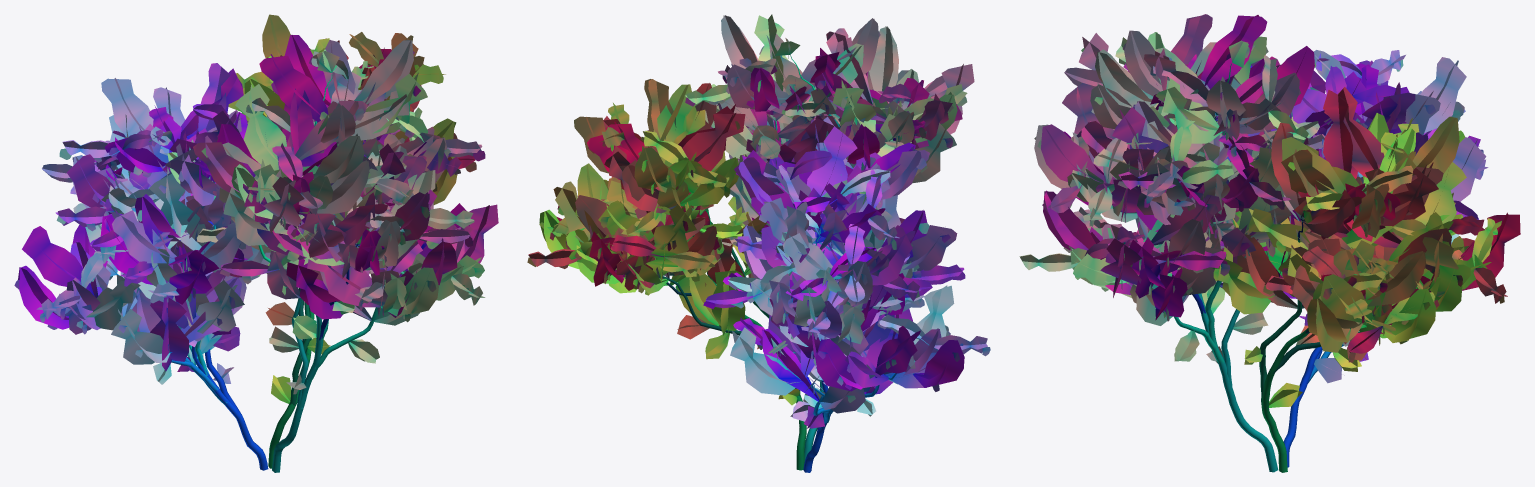
Rendered from European_Spindle_wk1ncbxja_Mid_wk1ncbxja_VarC_LOD2.fbx.
3 views of the same model, side by side, from view 1: azimuth 30°, elevation 25°; view 2: azimuth 150°, elevation 25°; view 3: azimuth 270°, elevation 25° (orthographic). The views are drawn at different scales.
Visible parts, largest first — view 1: _9tu7_VarC_LOD3; view 2: _9tu7_VarC_LOD3; view 3: _9tu7_VarC_LOD3.
Part boxes in pixels (x1,y1,x2,y2): _9tu7_VarC_LOD3: (14,14,498,472); _9tu7_VarC_LOD3: (527,14,990,472); _9tu7_VarC_LOD3: (1019,14,1520,472).
Size of the model in its own units: 319 by 288 by 291.
